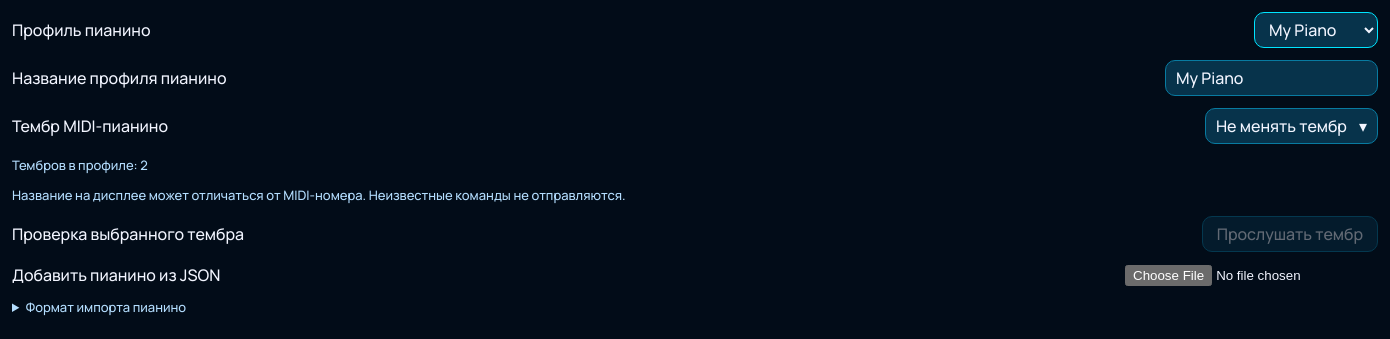
Scenario: closes on outside pointer, Tab and focus leaving without selecting
The image size is (1390, 339).
Click the dropdown labelled "Не менять тембр ▾".
click(1292, 126)  # box left=1205, top=108, right=1378, bottom=144
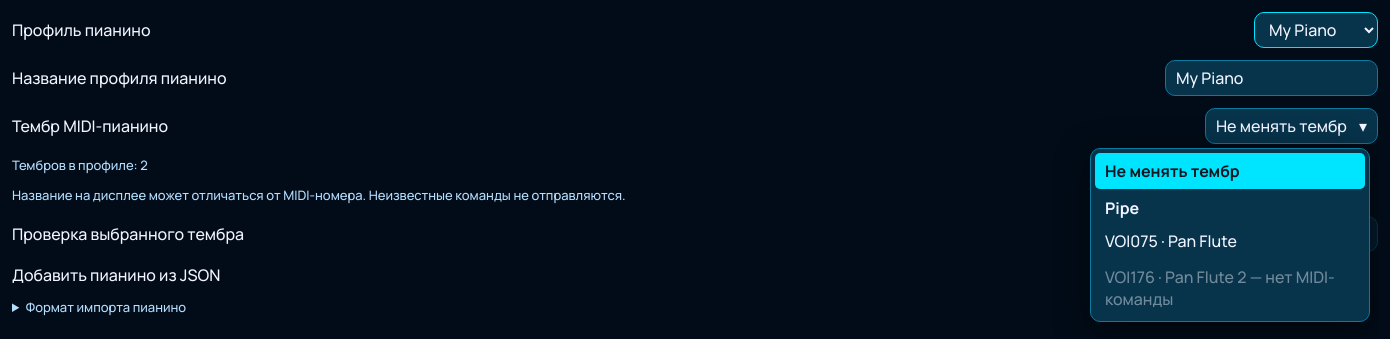
Press the mouse on the element that starts with "Профиль пианино" at (695, 164), box left=12, top=12, right=1378, bottom=316
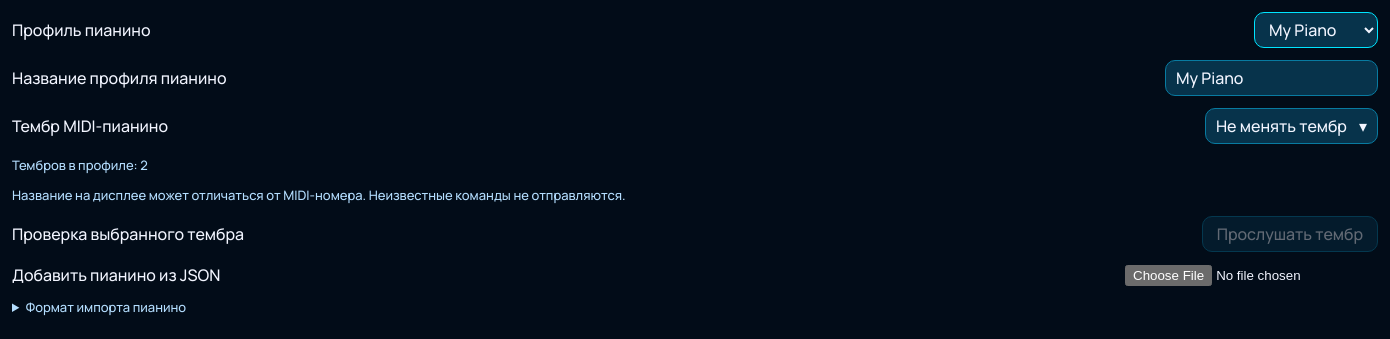
Check: the list is gone
Click the dropdown labelled "Не менять тембр ▾".
click(1292, 126)  # box left=1205, top=108, right=1378, bottom=144
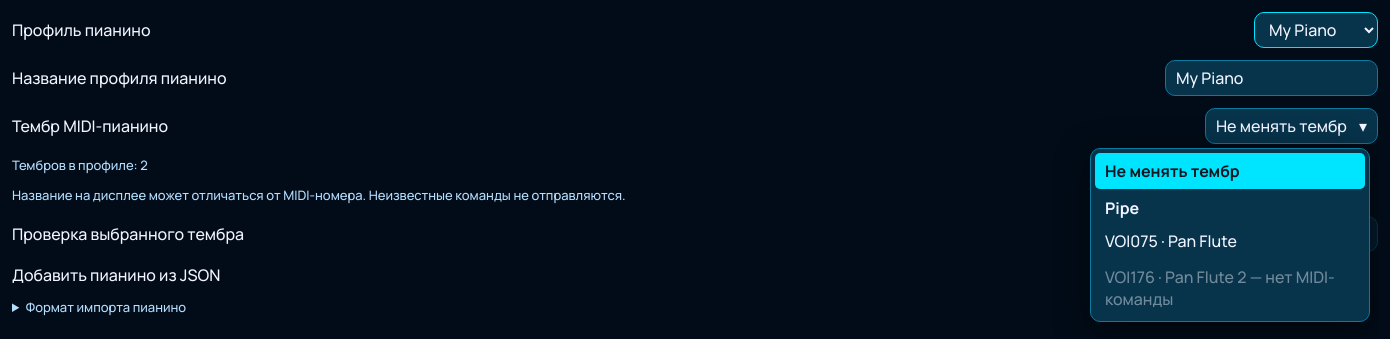
Press Tab in the dropdown labelled "Не менять тембр ▾", box left=1205, top=108, right=1378, bottom=144
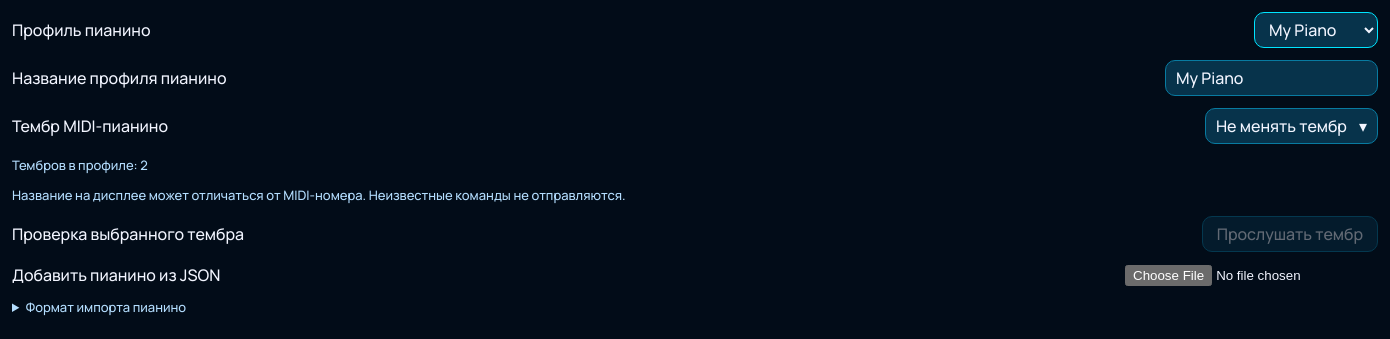
Check: the list is gone
Click the dropdown labelled "Не менять тембр ▾".
click(1292, 126)  # box left=1205, top=108, right=1378, bottom=144
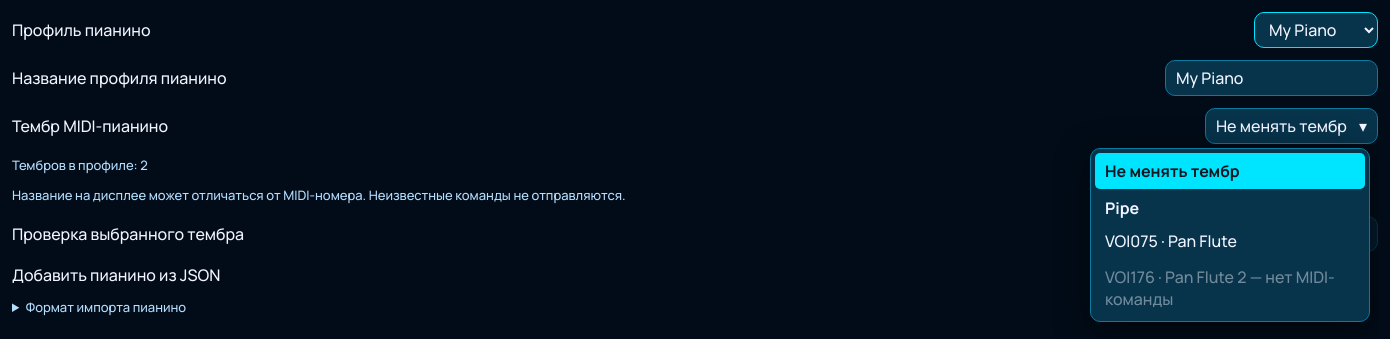
Leave the dropdown labelled "Не менять тембр ▾", box left=1205, top=108, right=1378, bottom=144
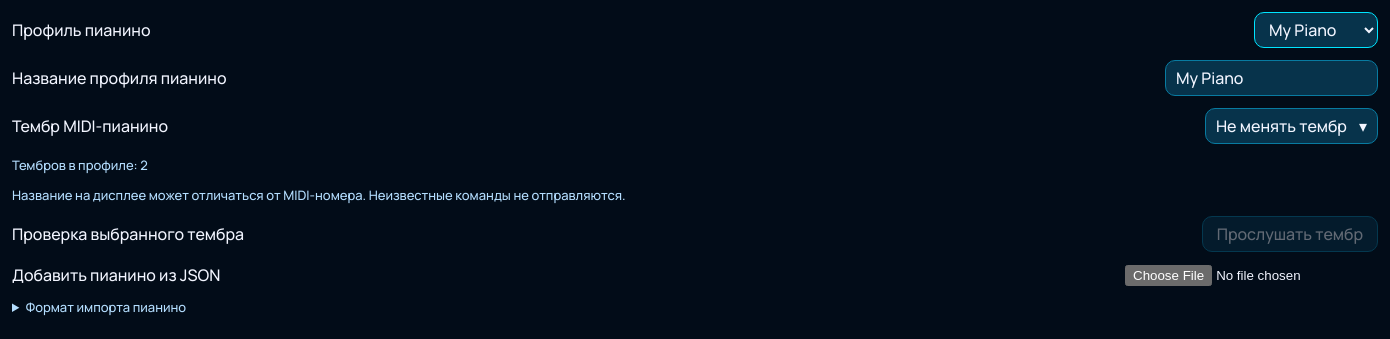
Check: the list is gone
